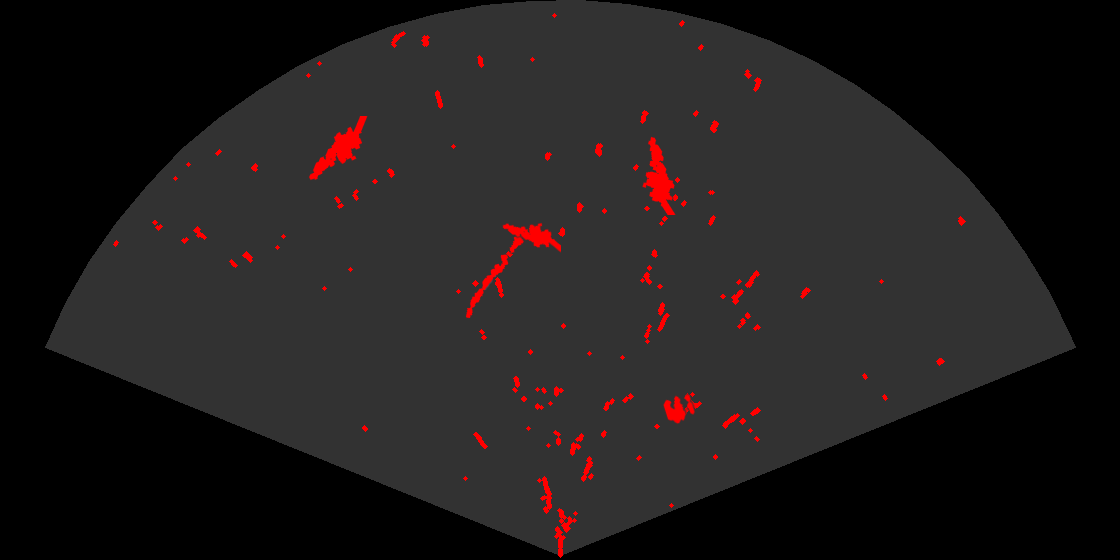ball: (661, 393, 697, 426)
chain: (464, 234, 525, 320)
frogman: (307, 116, 369, 182), (641, 135, 677, 215), (501, 221, 561, 254)
